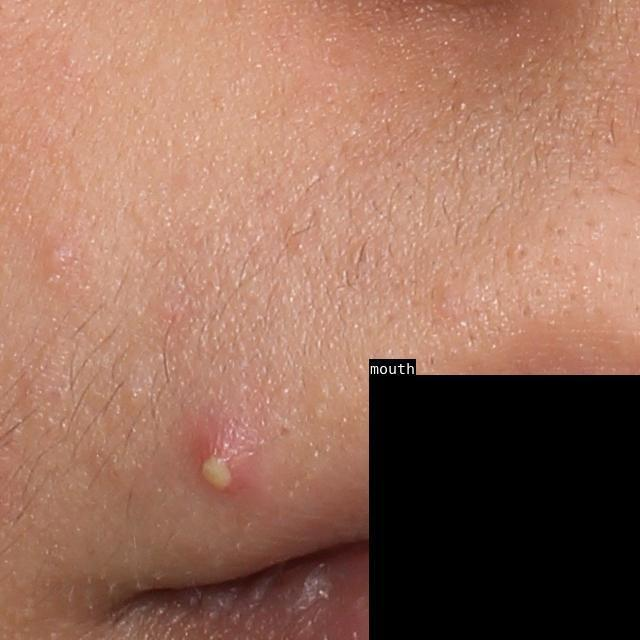comedo: (119, 378, 150, 412)
papule: (44, 241, 78, 275)
pustule: (196, 417, 258, 491)
